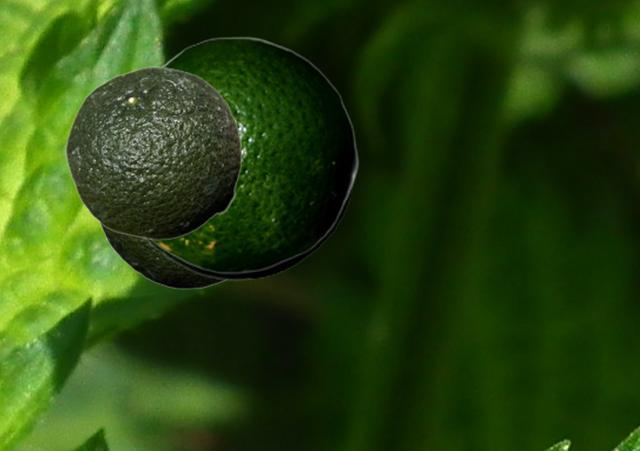calamansi: (146, 36, 358, 273), (144, 43, 354, 280), (65, 66, 241, 239), (96, 221, 228, 288)
